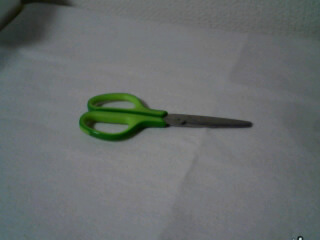003_classes: (65, 85, 271, 150)
